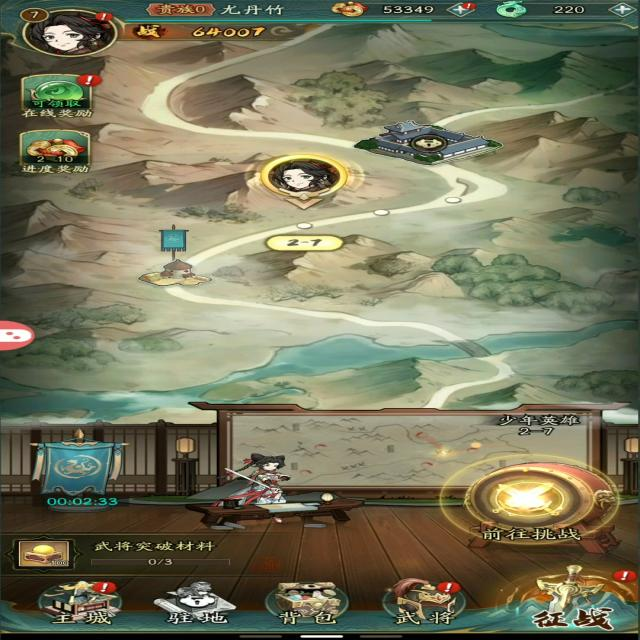hint-reddot: (431, 580, 466, 597), (88, 580, 120, 596), (610, 567, 640, 584), (90, 10, 118, 22), (81, 72, 102, 87), (458, 2, 482, 14)
navigation-bag: (260, 577, 358, 627)
navigation-fight: (501, 560, 638, 630)
navigation-hero: (377, 572, 480, 628)
navigation-main: (21, 576, 135, 627)
navigation-role: (15, 1, 130, 58)
navigation-station-off: (159, 578, 236, 626)
operation-TaskCollection: (11, 531, 259, 571)
operation-Vip: (145, 0, 230, 17)
operation-challenge: (457, 456, 616, 536)
operation-onlineRewards: (8, 70, 108, 124)
operation-progressRewards: (15, 129, 101, 179)
operation-quickFight: (28, 433, 130, 509)
